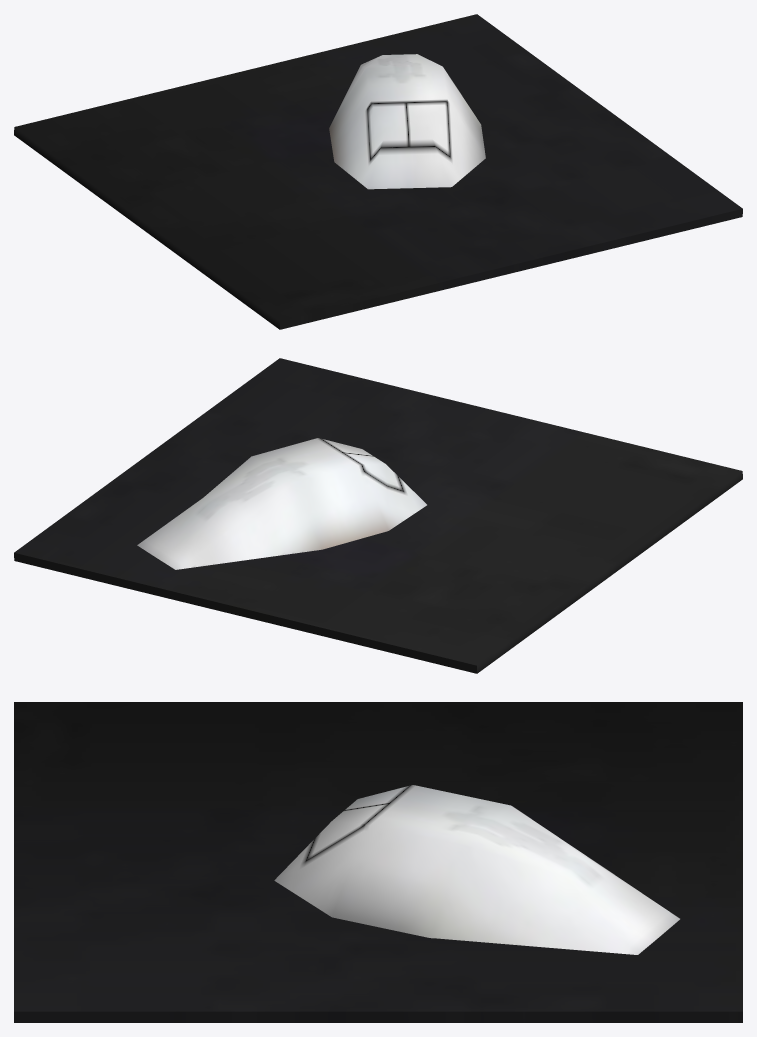
Rendered from mouse.obj.
3 views of the same model, one above another, from view 1: azimuth 30°, elevation 25°; view 2: azimuth 150°, elevation 25°; view 3: azimuth 270°, elevation 25° (orthographic). The views are drawn at different scales.
Parts seen in each view (by area): view 1: mouse; view 2: mouse; view 3: mouse.
Boxes of the visible parts, x1,y1,x2,y2 form: mouse: (14, 14, 742, 329); mouse: (14, 358, 742, 673); mouse: (14, 702, 742, 1022).
Bounding box in the file's own units: 27.8 × 3.63 × 27.64.
1 material, 1 textured.
